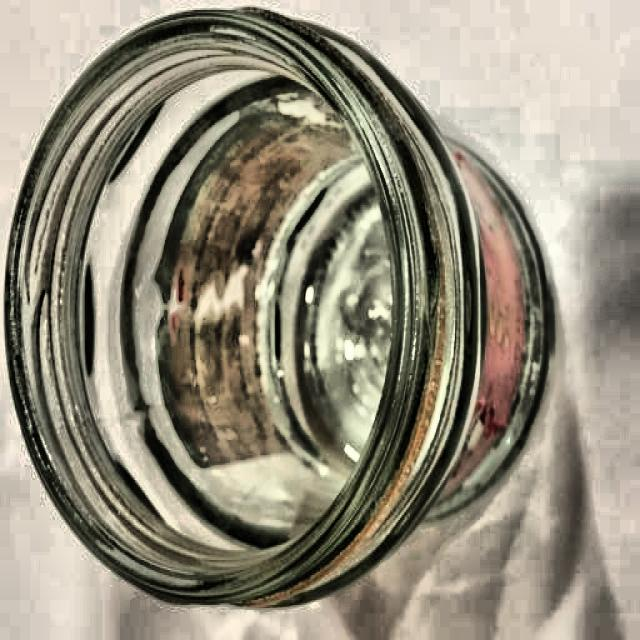glass: (0, 7, 547, 610)
